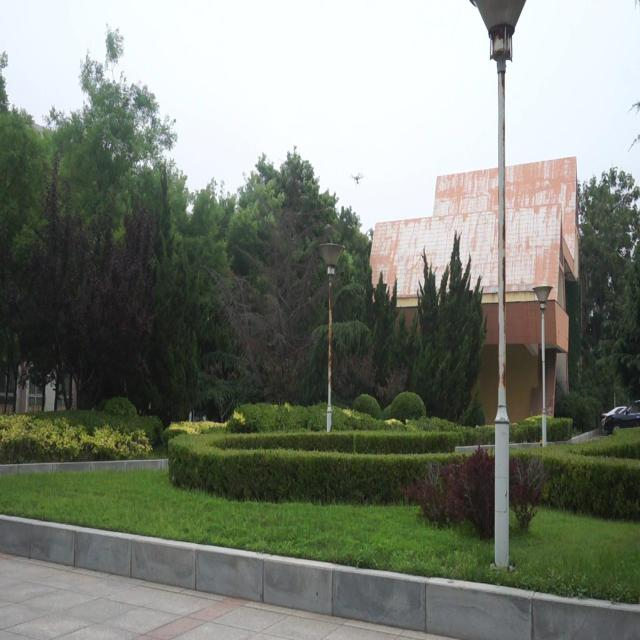drone: (350, 170, 365, 188)
